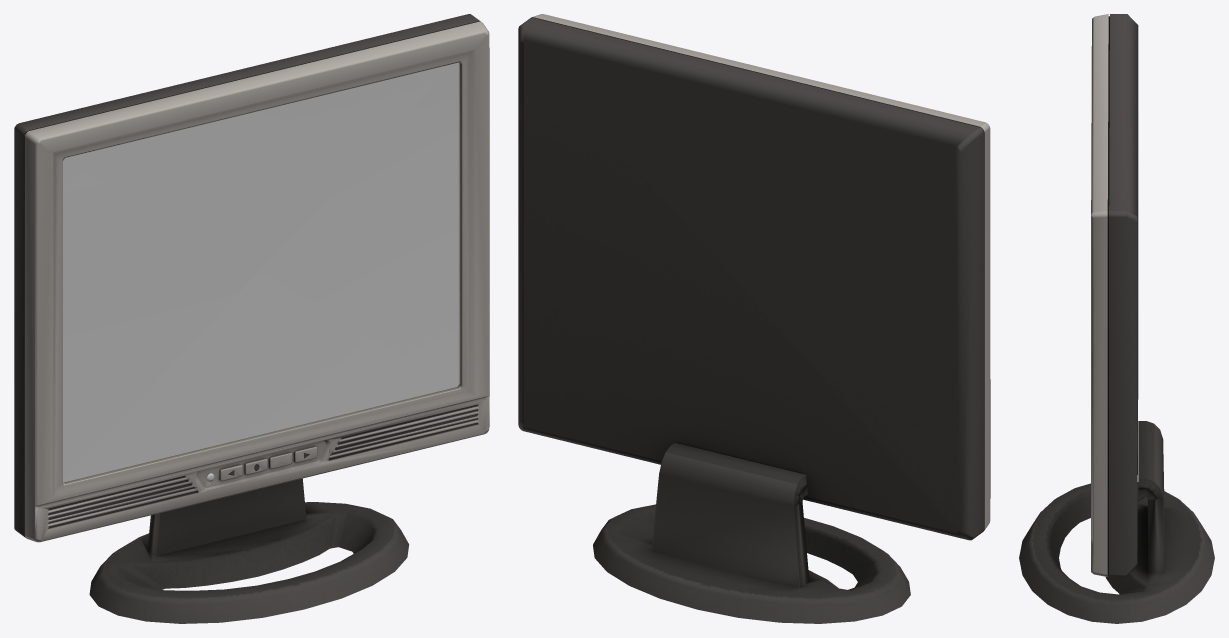
File: monitore.fbx
3 views of the same model, side by side, from view 1: azimuth 30°, elevation 25°; view 2: azimuth 150°, elevation 25°; view 3: azimuth 270°, elevation 25° (orthographic). The views are drawn at different scales.
Visible parts, largest first — view 1: Mesh_ncl1_4, Mesh_ncl1_3, Mesh_ncl1_1, Mesh, Mesh_ncl1_2; view 2: Mesh_ncl1_1, Mesh_ncl1_4, Mesh, Mesh_ncl1_3, Mesh_ncl1_2; view 3: Mesh_ncl1_1, Mesh_ncl1_4, Mesh, Mesh_ncl1_2, Mesh_ncl1_3.
Boxes of the visible parts, x1,y1,x2,y2 form: Mesh_ncl1_4: (14, 14, 487, 623); Mesh_ncl1_3: (19, 15, 488, 608); Mesh_ncl1_1: (28, 14, 489, 609); Mesh: (20, 20, 488, 609); Mesh_ncl1_2: (21, 21, 489, 609); Mesh_ncl1_1: (518, 14, 978, 609); Mesh_ncl1_4: (521, 14, 990, 623); Mesh: (520, 17, 983, 609); Mesh_ncl1_3: (520, 29, 984, 609); Mesh_ncl1_2: (519, 14, 978, 609); Mesh_ncl1_1: (1019, 15, 1214, 623); Mesh_ncl1_4: (1019, 14, 1214, 599); Mesh: (1019, 14, 1214, 600); Mesh_ncl1_2: (1029, 15, 1204, 600); Mesh_ncl1_3: (1036, 14, 1199, 600).
Size of the model in its own units: 44.76 by 46.35 by 18.46.
